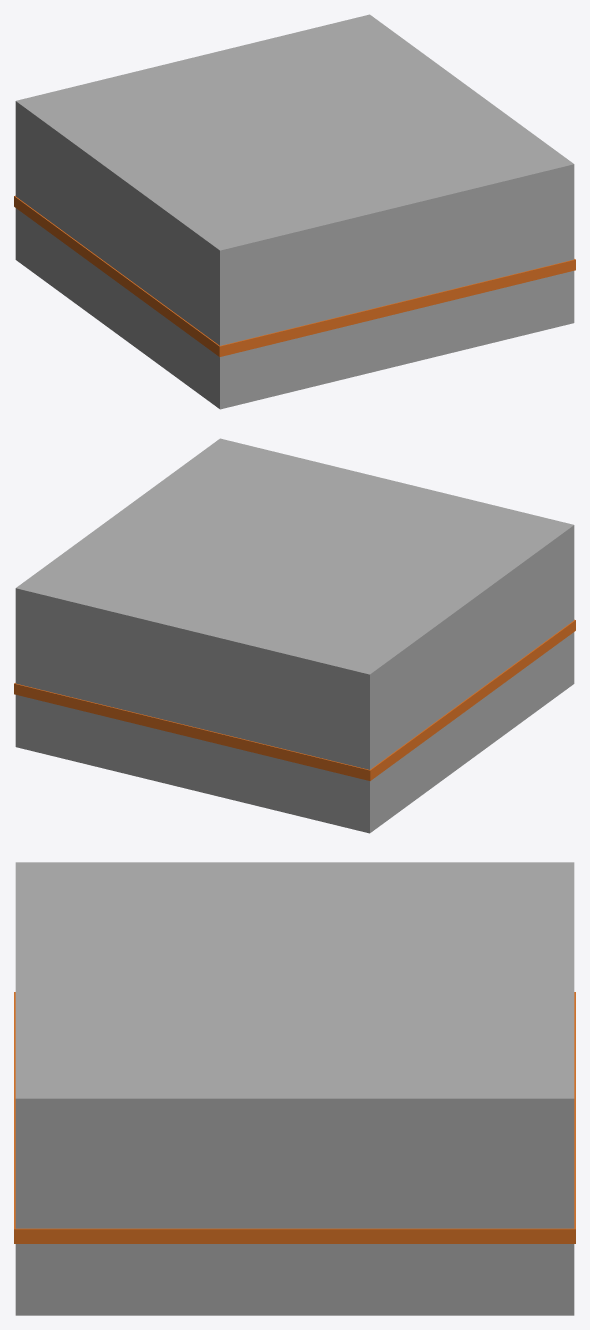
Rendered from Edificio_01.fbx.
3 views of the same model, one above another, from view 1: azimuth 30°, elevation 25°; view 2: azimuth 150°, elevation 25°; view 3: azimuth 270°, elevation 25° (orthographic). The views are drawn at different scales.
Parts seen in each view (by area): view 1: Edificio_01, Cornice.001; view 2: Edificio_01, Cornice.001; view 3: Edificio_01, Cornice.001.
Part boxes in pixels (x1=…): Edificio_01: x1=15, y1=14, x2=574, y2=409; Cornice.001: x1=14, y1=195, x2=575, y2=356; Edificio_01: x1=15, y1=438, x2=574, y2=833; Cornice.001: x1=14, y1=619, x2=575, y2=780; Edificio_01: x1=15, y1=862, x2=574, y2=1315; Cornice.001: x1=14, y1=992, x2=575, y2=1243.
Bounding box in the file's own units: 7.04 × 7.04 × 3.
